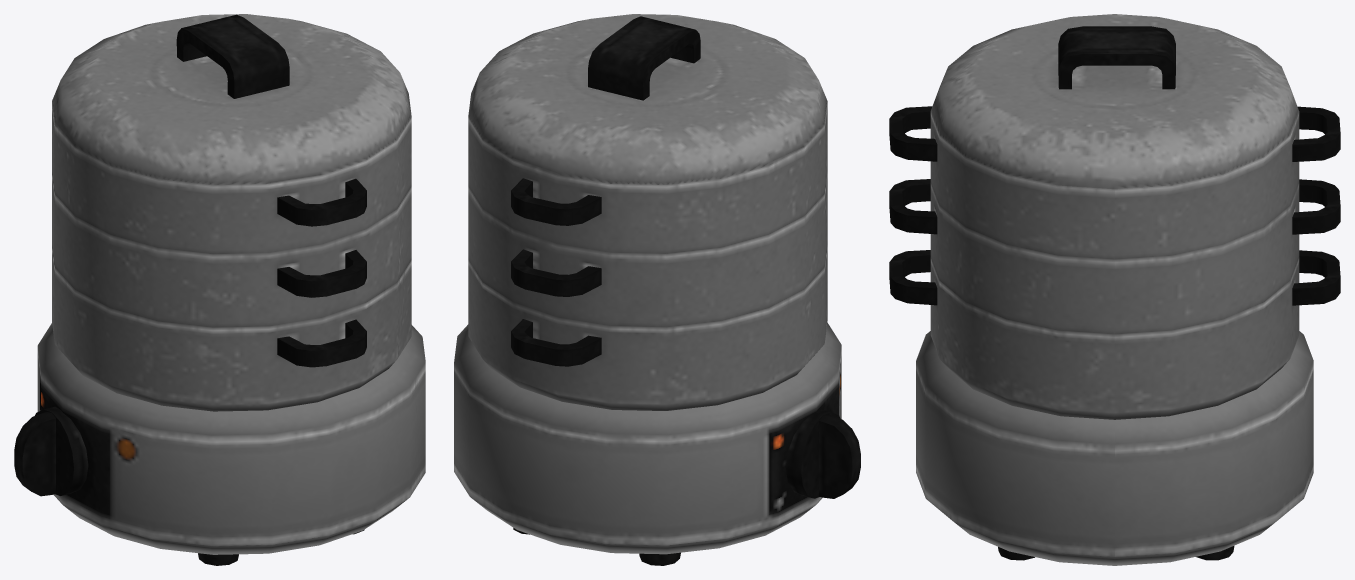
The model's file is CP_Steamer.fbx.
3 views of the same model, side by side, from view 1: azimuth 30°, elevation 25°; view 2: azimuth 150°, elevation 25°; view 3: azimuth 270°, elevation 25° (orthographic). The views are drawn at different scales.
Visible parts, largest first — view 1: CP_Steamer_LOD0; view 2: CP_Steamer_LOD0; view 3: CP_Steamer_LOD0.
Boxes of the visible parts, box(x1,y1,x2,y2) form: CP_Steamer_LOD0: box(14, 14, 425, 565); CP_Steamer_LOD0: box(454, 14, 860, 565); CP_Steamer_LOD0: box(889, 14, 1340, 565).
Size of what is drawn, in the model's own units: 35.54 by 42.02 by 35.85.
